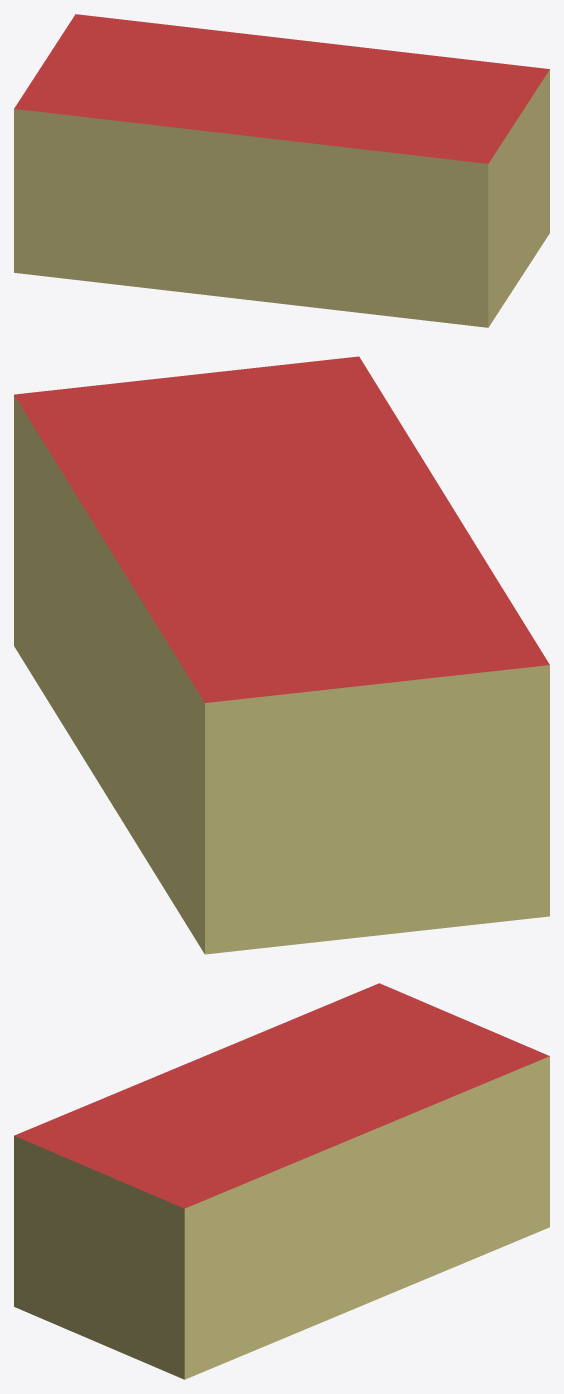
3 renders of one model, top to bottom at view 1: azimuth 30°, elevation 25°; view 2: azimuth 150°, elevation 25°; view 3: azimuth 270°, elevation 25°, orthographic. The views are drawn at different scales.
Bounding box in the file's own units: 15.26 × 15.33 × 5.4.
